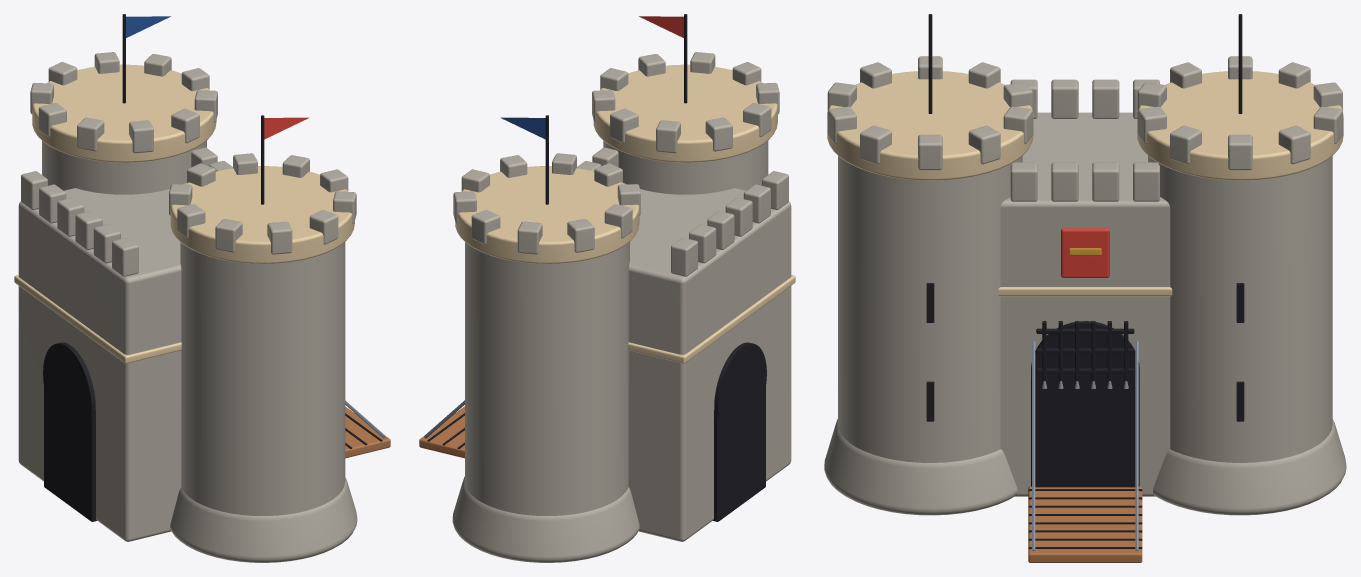
The model's file is castle_gate.glb.
3 views of the same model, side by side, from view 1: azimuth 30°, elevation 25°; view 2: azimuth 150°, elevation 25°; view 3: azimuth 270°, elevation 25° (orthographic). The views are drawn at different scales.
Parts seen in each view (by area): view 1: castle_gate; view 2: castle_gate; view 3: castle_gate.
Boxes of the visible parts, x1,y1,x2,y2 form: castle_gate: (14,14,390,562); castle_gate: (419,14,795,562); castle_gate: (824,14,1346,562).
Size of the model in its own units: 14.2 by 18.6 by 19.2.
Materials: 1 (1 with a texture image).
